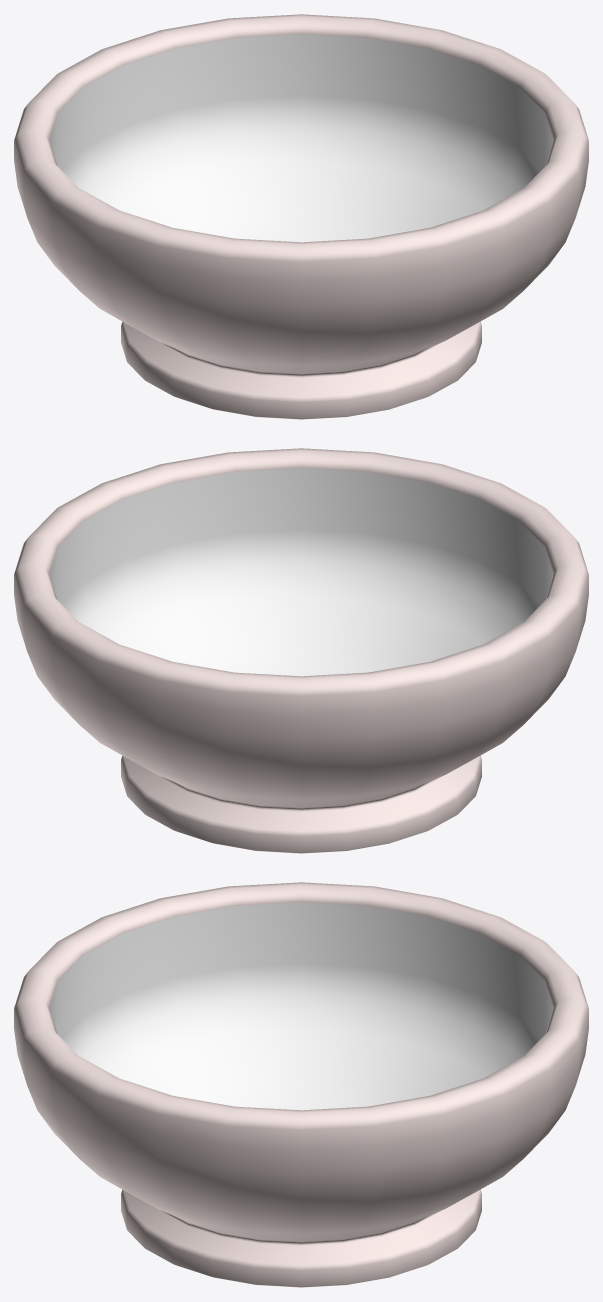
File: bowl.fbx
3 views of the same model, one above another, from view 1: azimuth 30°, elevation 25°; view 2: azimuth 150°, elevation 25°; view 3: azimuth 270°, elevation 25° (orthographic).
Parts seen in each view (by area): view 1: Bowl; view 2: Bowl; view 3: Bowl.
Part boxes in pixels (bbox=[...]): Bowl: bbox=[14, 14, 588, 419]; Bowl: bbox=[14, 448, 588, 853]; Bowl: bbox=[14, 882, 588, 1287].
Bounding box in the file's own units: 176 × 72.63 × 176.
